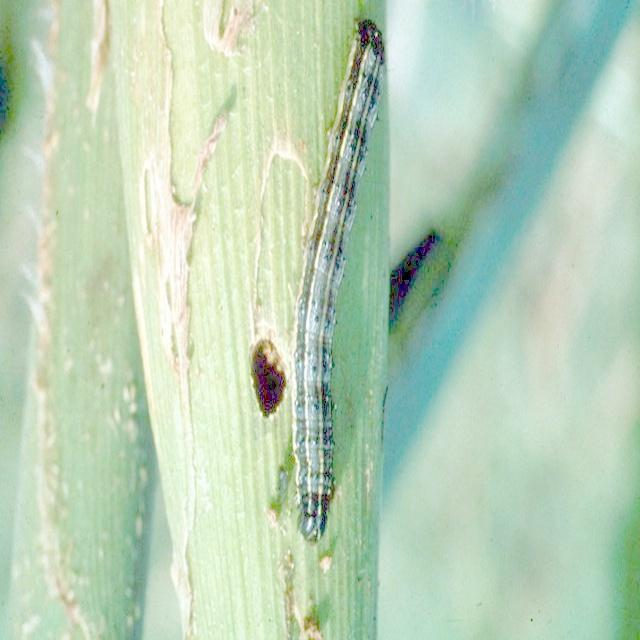gusano_cogollero: (286, 9, 392, 547)
